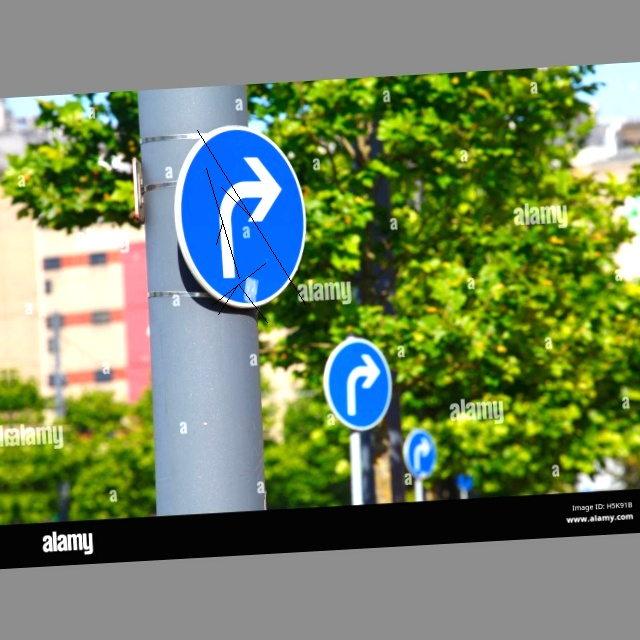Compulsory_Turn_Right_Ahead: (174, 124, 305, 310)
